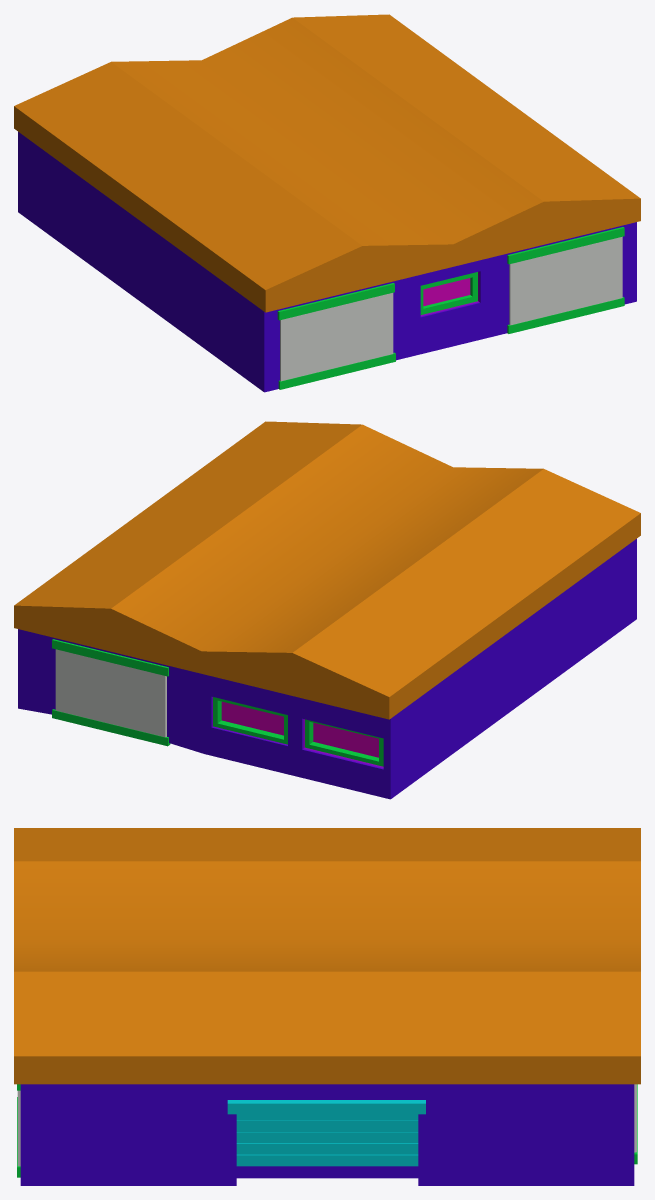
The model's file is Bat_Joliette_4.2.fbx.
3 renders of one model, top to bottom at view 1: azimuth 30°, elevation 25°; view 2: azimuth 150°, elevation 25°; view 3: azimuth 270°, elevation 25°, orthographic. The views are drawn at different scales.
Visible parts, largest first — view 1: Bat_Joliette_4.2; view 2: Bat_Joliette_4.2; view 3: Bat_Joliette_4.2.
Part boxes in pixels (x1=…): Bat_Joliette_4.2: x1=14, y1=14, x2=640, y2=392; Bat_Joliette_4.2: x1=14, y1=421, x2=640, y2=799; Bat_Joliette_4.2: x1=14, y1=828, x2=640, y2=1185.
Bounding box in the file's own units: 2012 × 633 × 2307.
